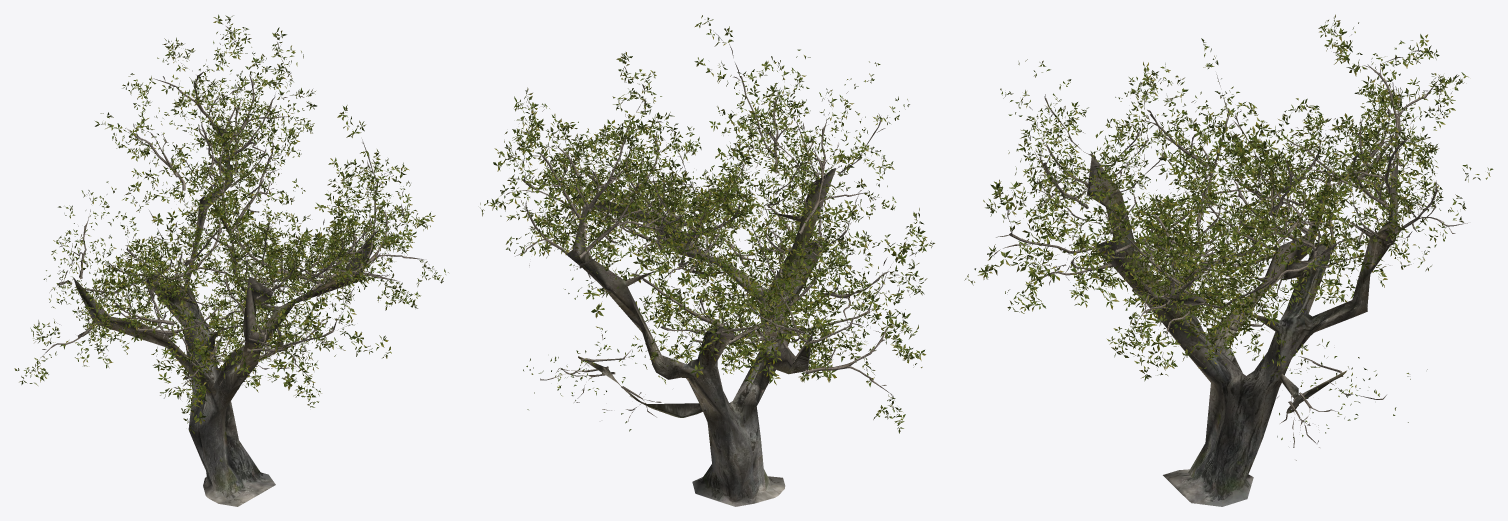
The model's file is island_tree_01.glb.
3 views of the same model, side by side, from view 1: azimuth 30°, elevation 25°; view 2: azimuth 150°, elevation 25°; view 3: azimuth 270°, elevation 25° (orthographic). The views are drawn at different scales.
Visible parts, largest first — view 1: island_tree_01_LOD0; view 2: island_tree_01_LOD0; view 3: island_tree_01_LOD0.
Part boxes in pixels (<box>): island_tree_01_LOD0: <box>14,14,448,506</box>; island_tree_01_LOD0: <box>480,15,934,506</box>; island_tree_01_LOD0: <box>964,14,1493,506</box>.
Size of the model in its own units: 4.74 by 5.02 by 4.81.
3 materials, 3 textured.
